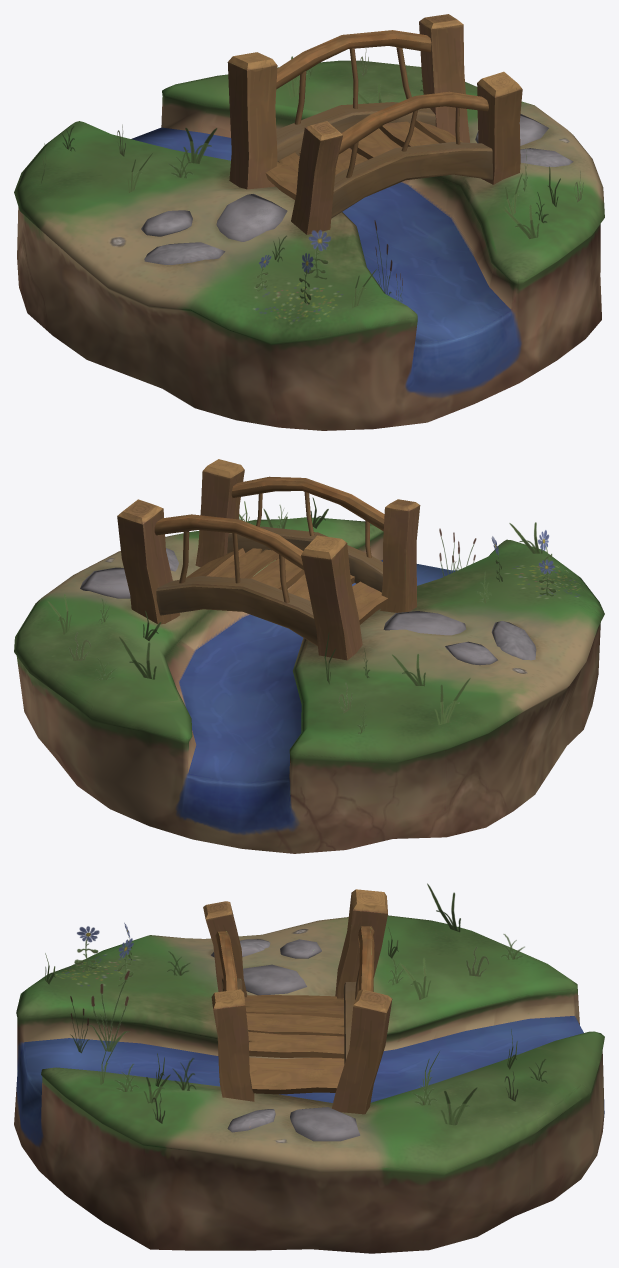
File: Ponte_rio.glb
3 views of the same model, one above another, from view 1: azimuth 30°, elevation 25°; view 2: azimuth 150°, elevation 25°; view 3: azimuth 270°, elevation 25° (orthographic). The views are drawn at different scales.
Parts seen in each view (by area): view 1: Cylinder_30, Cube.002_34, Cube.007_32, Cube.001_33, Cube.003_35, Cube.004_54, Cube.017_42, Cube.006_31, Cube.016_41, Icosphere.001_49, Icosphere.004_52, Icosphere.002_50 (+5 smaller); view 2: Cylinder_30, Cube.006_31, Cube.002_34, Cube.003_35, Cube.001_33, Cube.004_54, Cube.017_42, Cube.016_41, Cube.007_32, Icosphere.001_49, Icosphere.004_52, Icosphere.003_51 (+5 smaller); view 3: Cylinder_30, Cube.003_35, Cube.004_54, Cube.012_39, Cube.002_34, Cube.011_38, Cube.009_36, Icosphere.003_51, Cube.001_33, Icosphere.001_49, Cube.010_37, Cube.017_42 (+7 smaller).
Boxes of the visible parts, x1,y1,x2,y2 form: Cylinder_30: [14, 60, 604, 430]; Cube.002_34: [227, 52, 277, 189]; Cube.007_32: [331, 142, 492, 218]; Cube.001_33: [291, 121, 343, 234]; Cube.003_35: [419, 14, 469, 142]; Cube.004_54: [477, 71, 522, 184]; Cube.017_42: [276, 30, 431, 89]; Cube.006_31: [276, 102, 435, 161]; Cube.016_41: [339, 91, 488, 154]; Icosphere.001_49: [216, 194, 287, 241]; Icosphere.004_52: [144, 242, 225, 264]; Icosphere.002_50: [141, 210, 192, 236]; Cylinder_30: [14, 517, 604, 853]; Cube.006_31: [156, 576, 317, 646]; Cube.002_34: [301, 535, 362, 660]; Cube.003_35: [117, 499, 180, 624]; Cube.001_33: [380, 499, 420, 612]; Cube.004_54: [195, 459, 244, 567]; Cube.017_42: [154, 514, 303, 569]; Cube.016_41: [231, 476, 384, 531]; Cube.007_32: [227, 526, 382, 592]; Icosphere.001_49: [383, 611, 466, 635]; Icosphere.004_52: [491, 621, 536, 660]; Icosphere.003_51: [80, 567, 130, 598]; Cylinder_30: [14, 915, 604, 1253]; Cube.003_35: [332, 989, 392, 1114]; Cube.004_54: [211, 989, 254, 1101]; Cube.012_39: [249, 1057, 344, 1094]; Cube.002_34: [335, 889, 387, 998]; Cube.011_38: [248, 1031, 344, 1058]; Cube.009_36: [246, 1013, 344, 1036]; Icosphere.003_51: [290, 1107, 360, 1141]; Cube.001_33: [203, 901, 247, 997]; Icosphere.001_49: [243, 964, 306, 995]; Cube.010_37: [245, 1001, 343, 1018]; Cube.017_42: [358, 926, 374, 991].
Size of the model in its own units: 1.78 by 0.816 by 1.83.
Materials: 3 (3 with a texture image).
